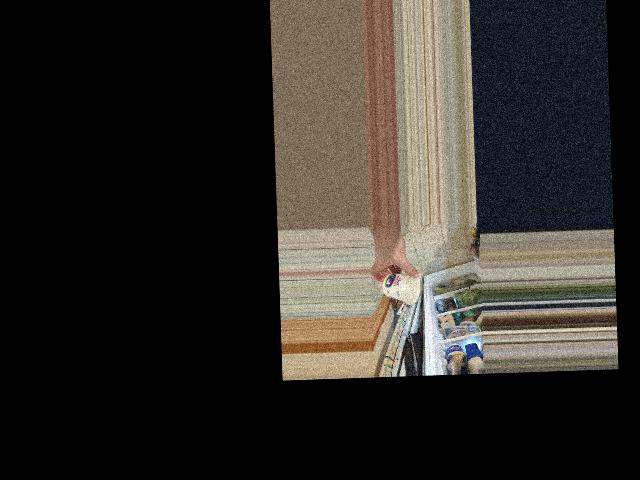cotage: (381, 269, 420, 304)
